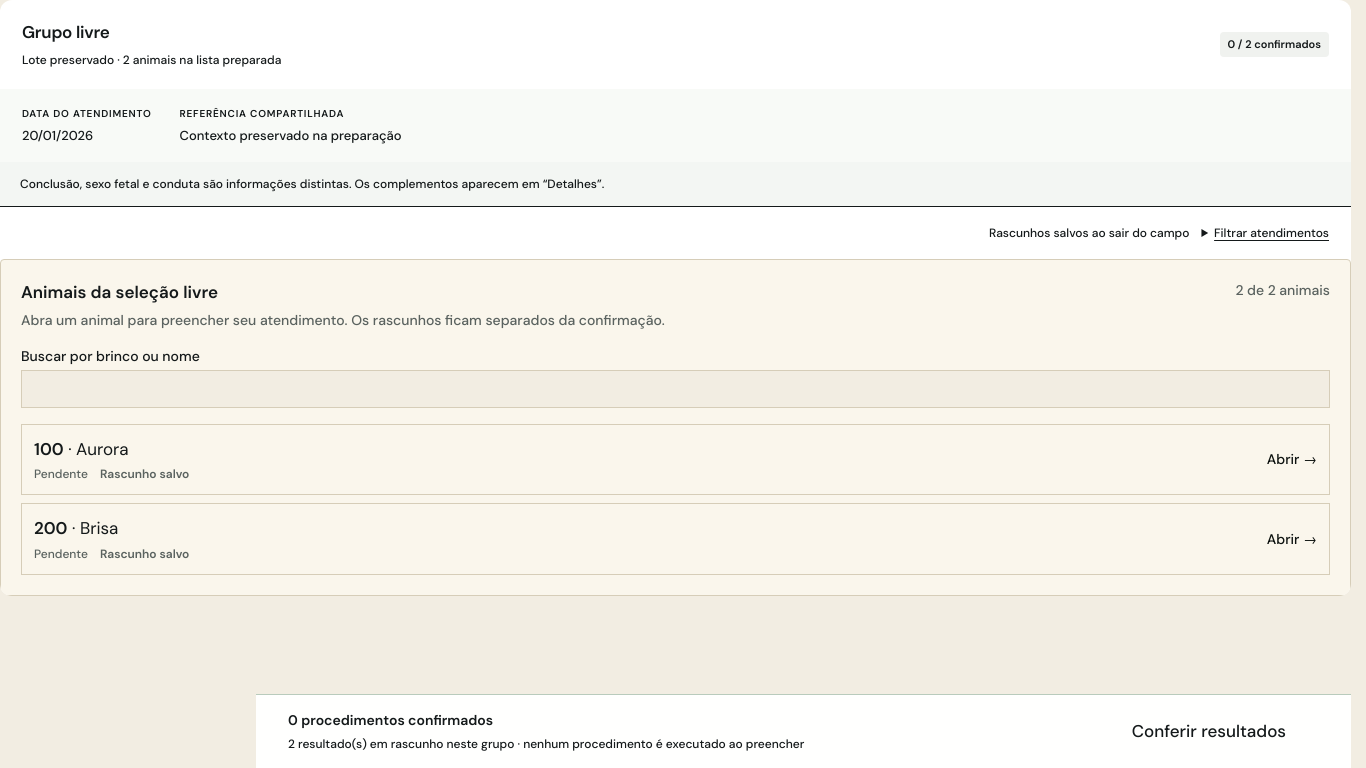
Test: seleção livre individual — contraprovas independentes › voltar mantém busca, contexto e rascunho sem confirmar atendimento ao navegar
This screenshot has width=1366, height=768.
In the search field labelled "Buscar por brinco ou nome": (676, 388) [21, 370, 1330, 408], type "Aurora"
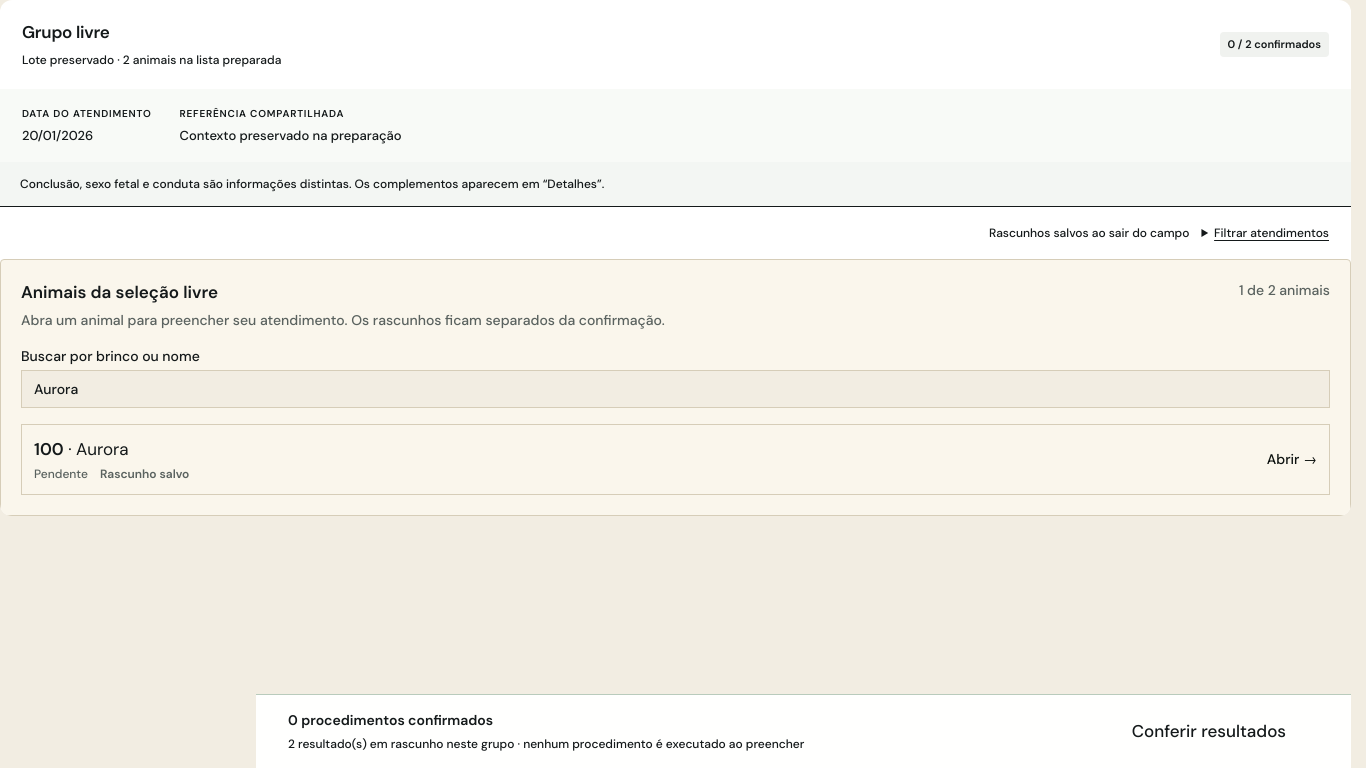
Click the button with aria-label "Abrir atendimento de 100 · Aurora": (102, 448) [21, 424, 1330, 495]
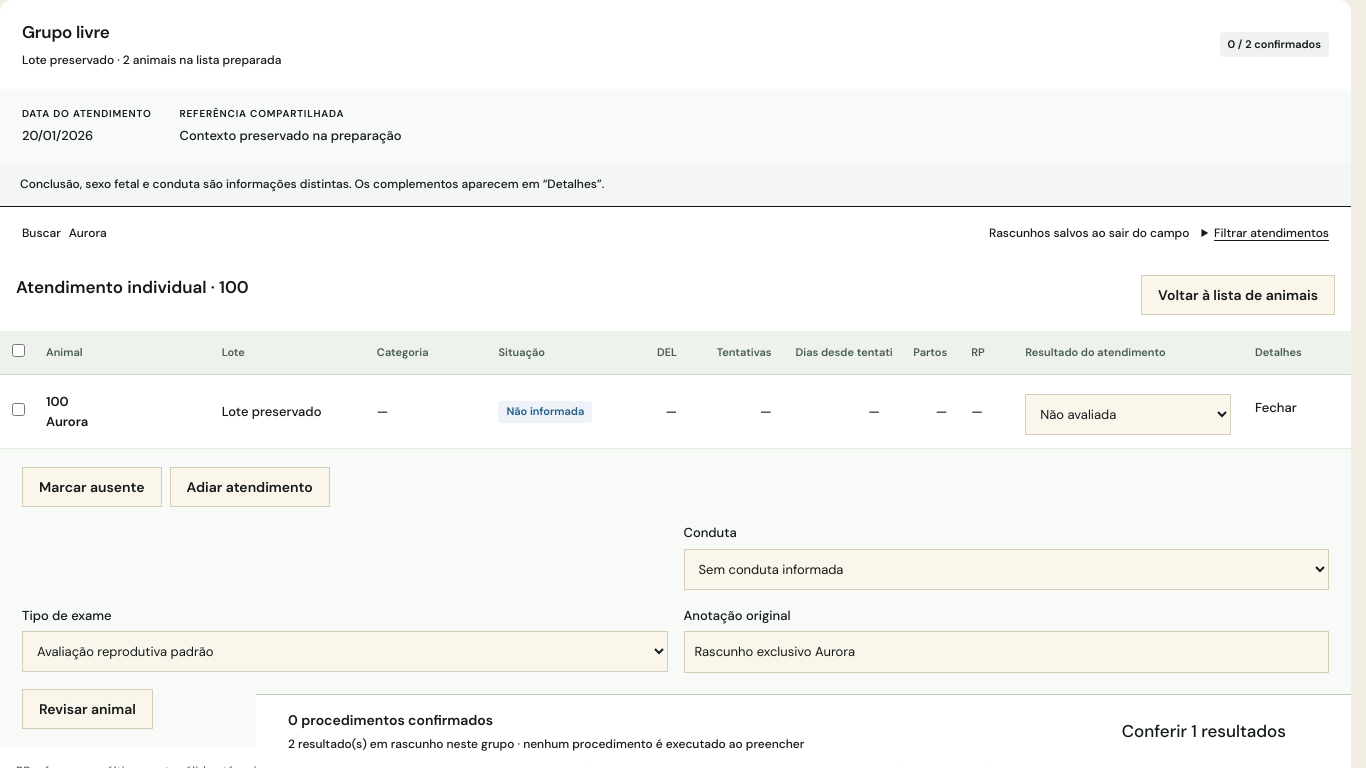
Replace the text in the field named "Anotação original · 100" with "Contexto do atendimento de Aurora preservado": (1006, 652) [684, 631, 1329, 673]
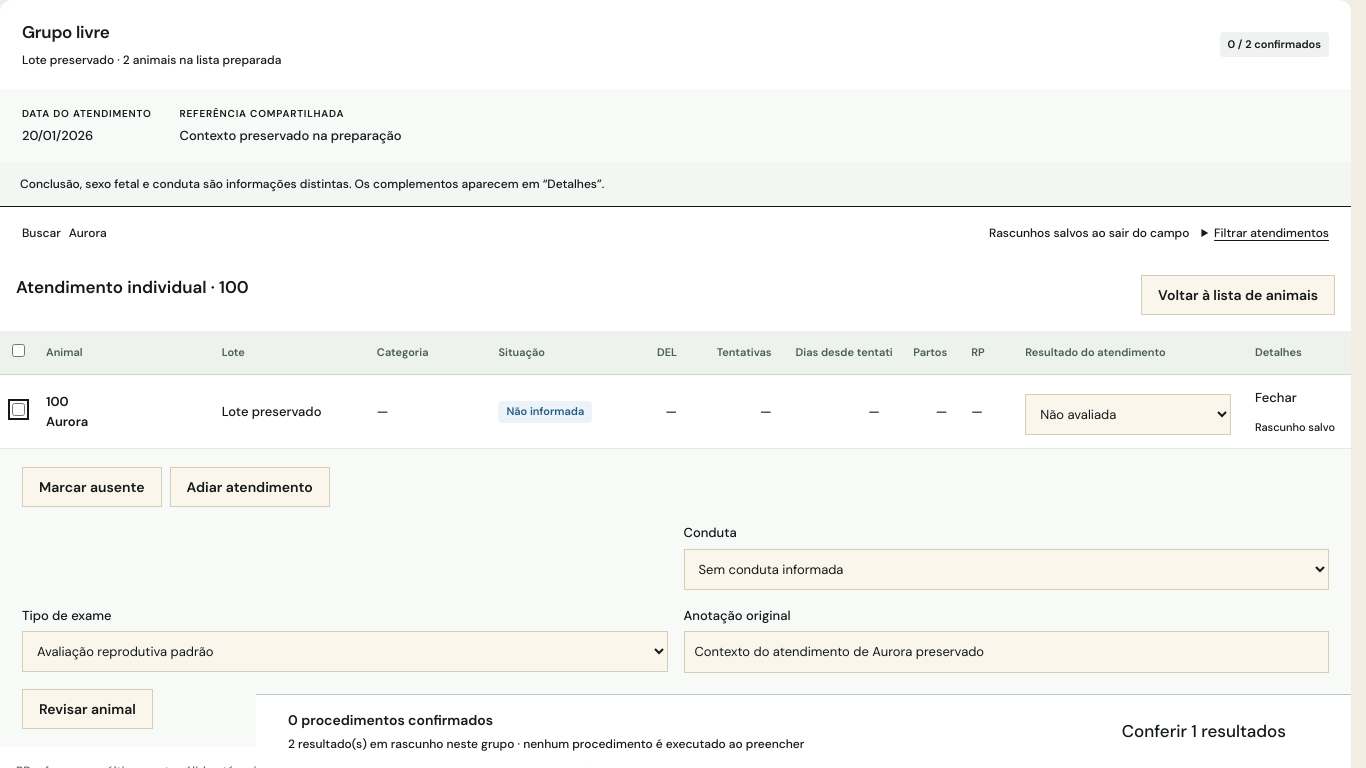
Click the button "Voltar à lista de animais": (1238, 295) [1141, 275, 1335, 315]
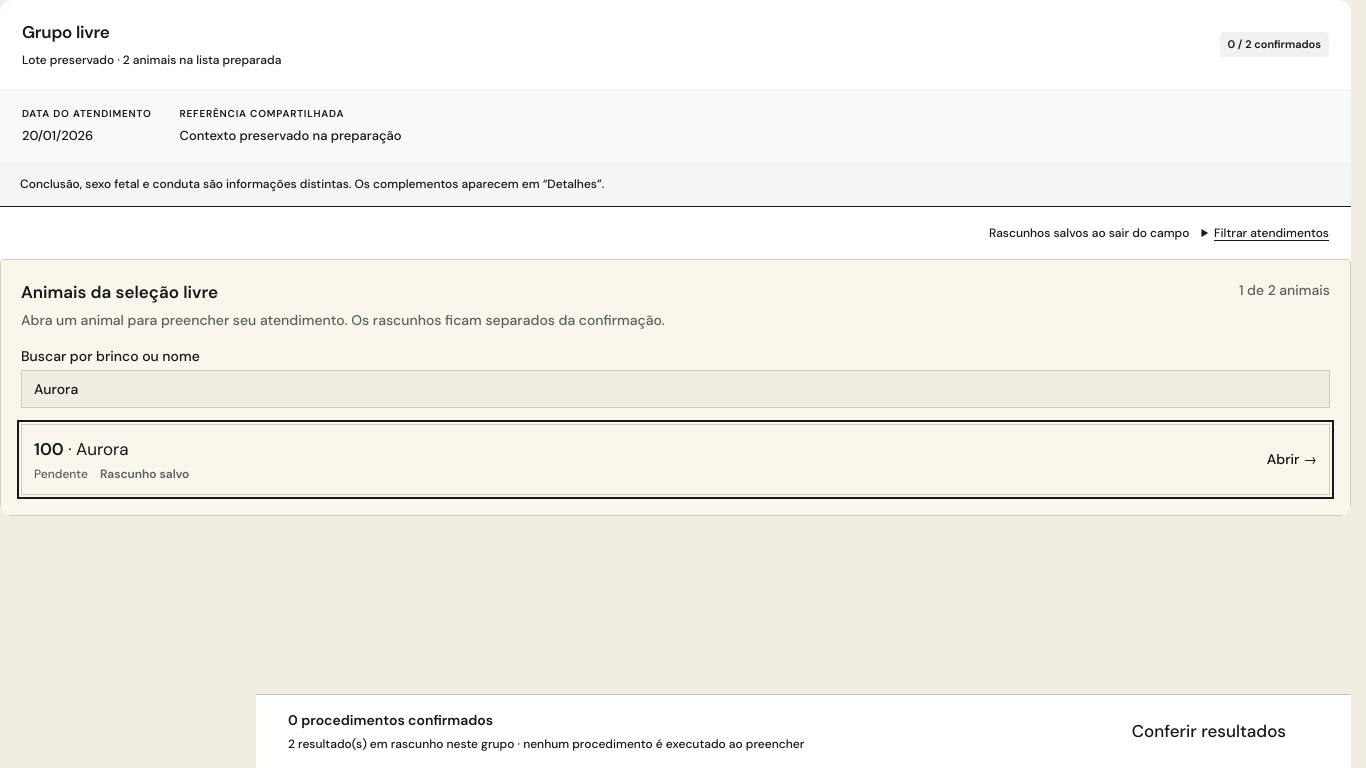
expect the button with aria-label "Abrir atendimento de 100 · Aurora" is shown: met
expect the search field labelled "Buscar por brinco ou nome" holds "Aurora": met, box [21, 370, 1330, 408]
Click the button with aria-label "Abrir atendimento de 100 · Aurora": (102, 448) [21, 424, 1330, 495]
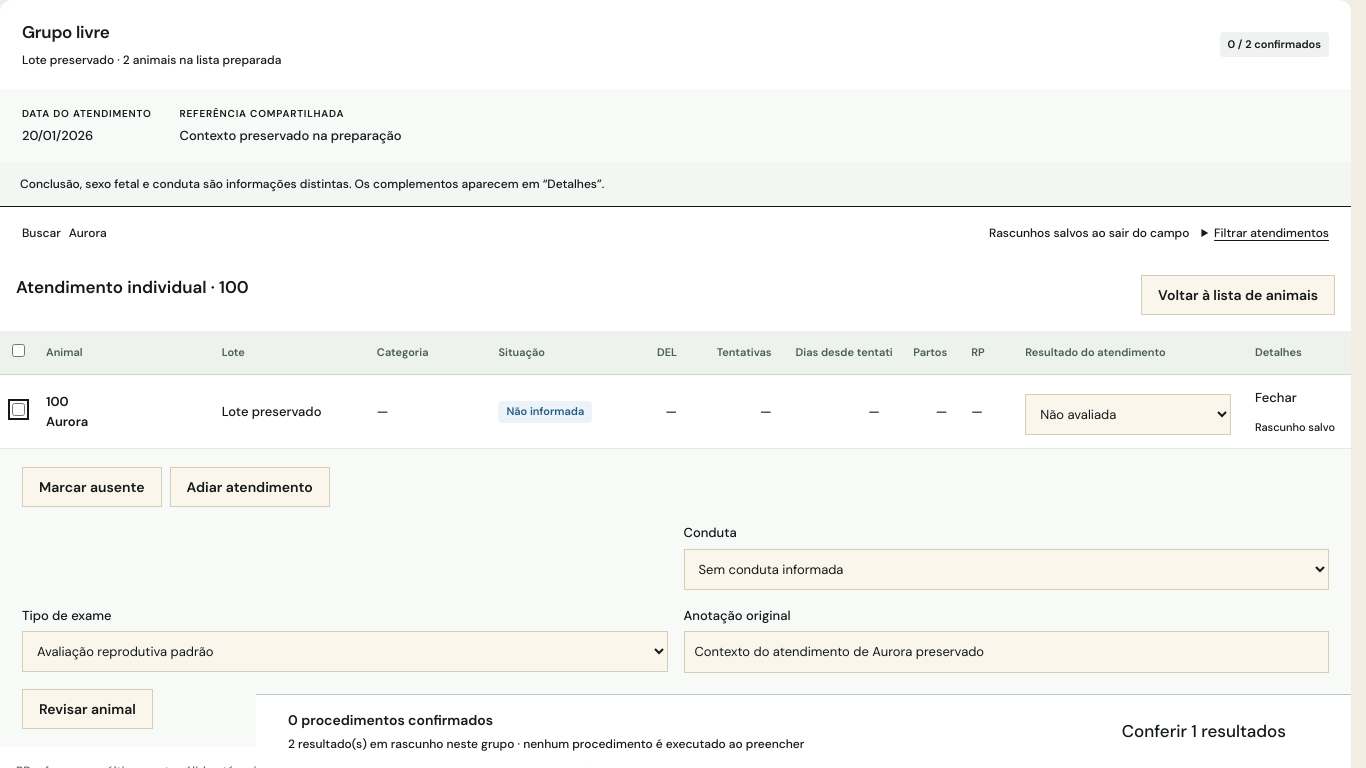
expect the text "Lote preservado · 2 animais na lista preparada" is shown: met, box [22, 50, 281, 68]
expect the field named "Anotação original · 100" holds "Contexto do atendimento de Aurora preservado": met, box [684, 631, 1329, 673]
